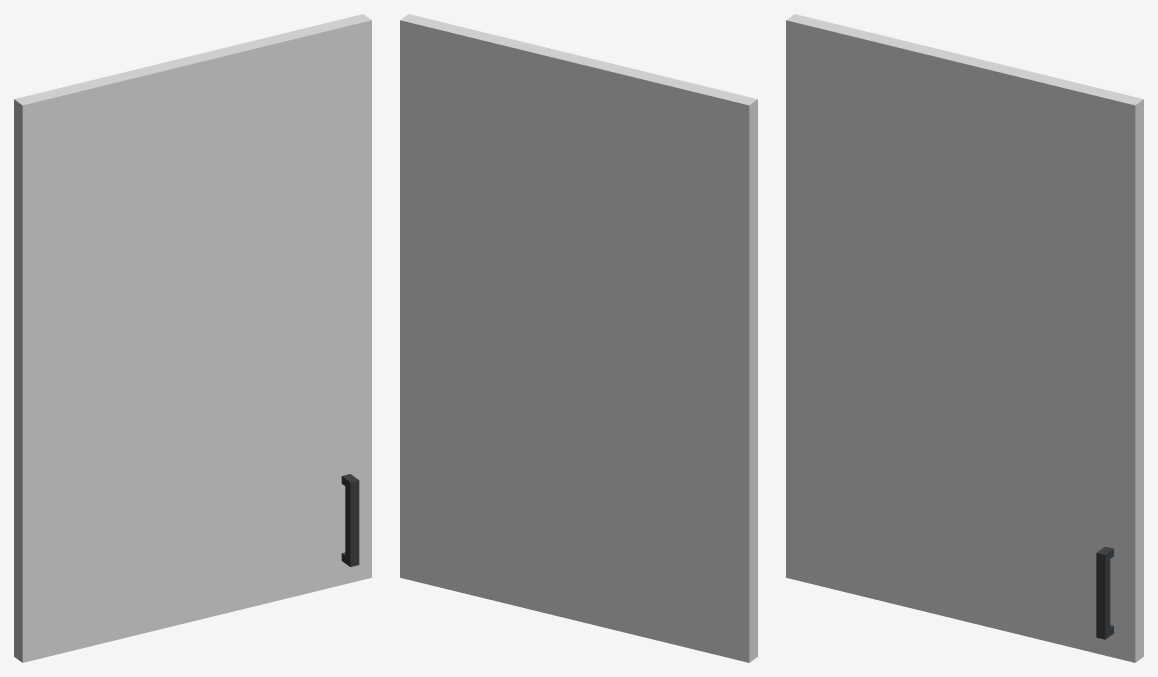
The model's file is Door1_C1_12.fbx.
3 renders of one model, left to right at view 1: azimuth 30°, elevation 25°; view 2: azimuth 150°, elevation 25°; view 3: azimuth 330°, elevation 25°, orthographic.
Visible parts, largest first — view 1: Door1_C1_12; view 2: Door1_C1_12; view 3: Door1_C1_12.
Boxes of the visible parts, x1,y1,x2,y2 form: Door1_C1_12: (14,14,371,662); Door1_C1_12: (400,14,757,662); Door1_C1_12: (786,14,1143,662).
Bounding box in the file's own units: 59 × 90 × 5.03.
